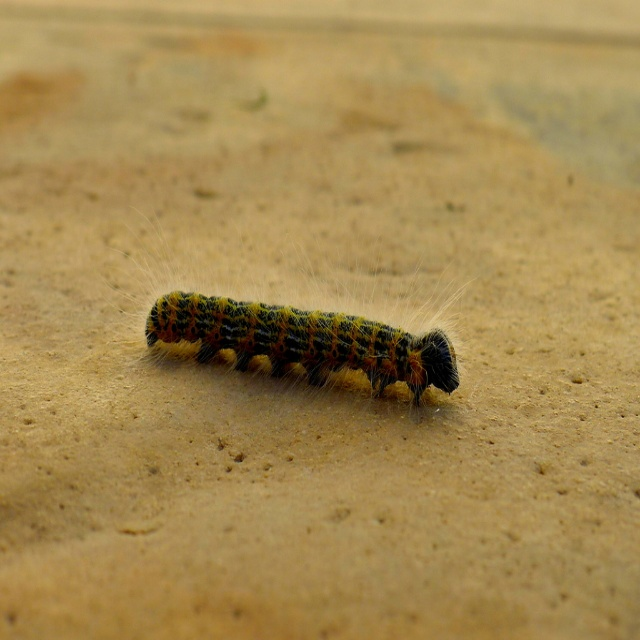Caterpillar: (102, 204, 476, 422)
